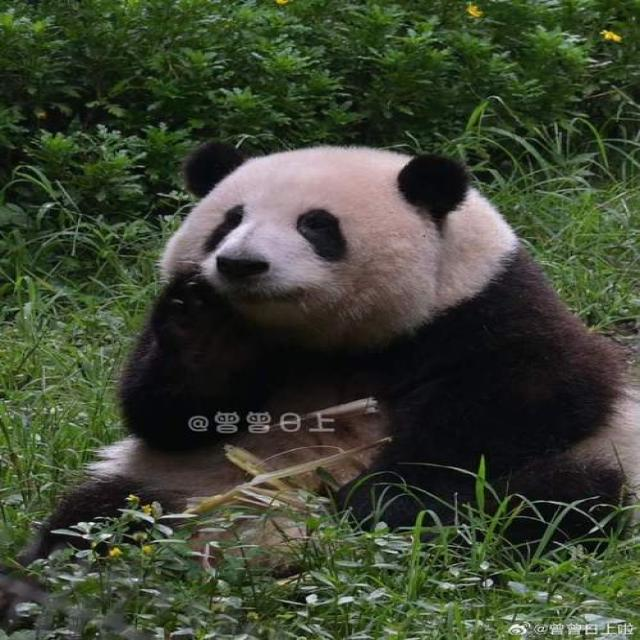panda: (83, 128, 628, 561)
